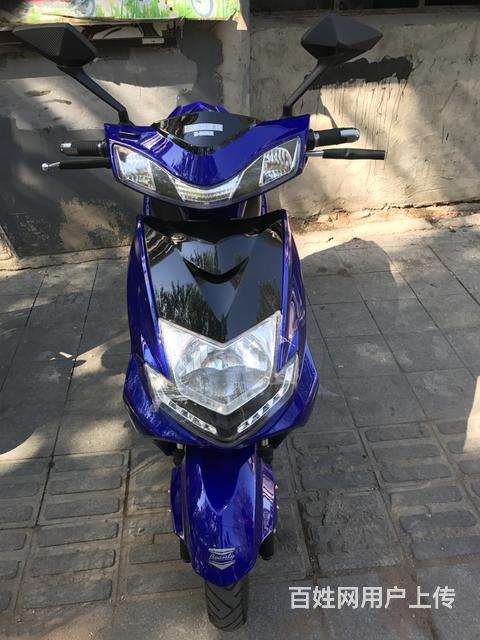电动车: (7, 3, 387, 635)
